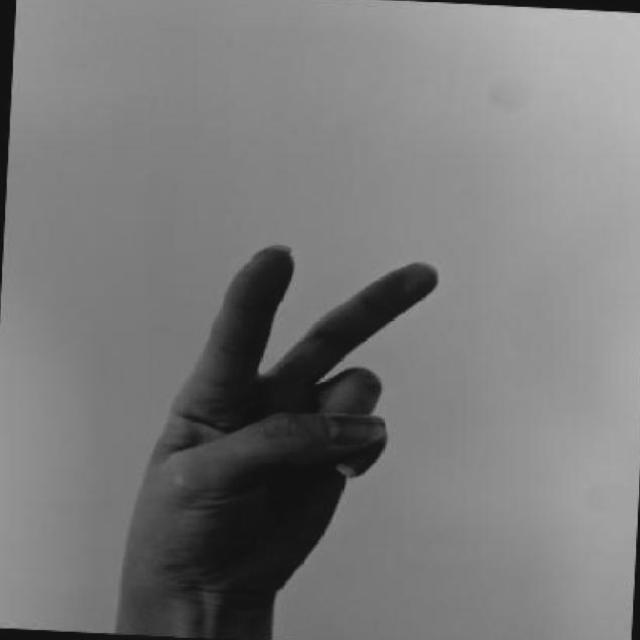V: (117, 237, 453, 640)
